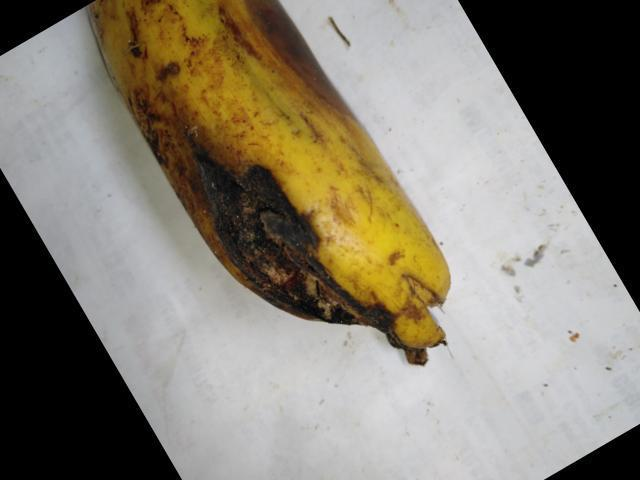ripe: (59, 0, 387, 118)
rotten: (131, 97, 454, 357), (209, 0, 360, 85)
